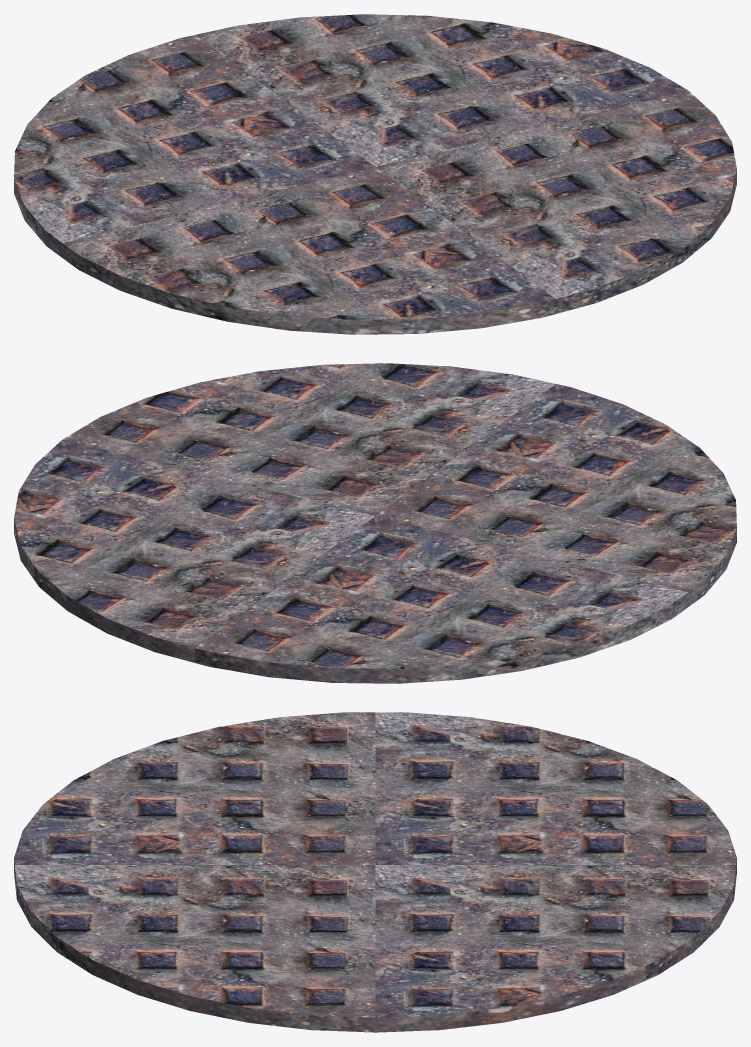
File: manhole.FBX
The picture shows the model from 3 angles, top to bottom: view 1: azimuth 30°, elevation 25°; view 2: azimuth 150°, elevation 25°; view 3: azimuth 270°, elevation 25°; orthographic projection.
Visible parts, largest first — view 1: Cylinder001; view 2: Cylinder001; view 3: Cylinder001.
Boxes of the visible parts, left/top/right/bottom form: Cylinder001: left=14, top=14, right=736, bottom=334; Cylinder001: left=14, top=363, right=736, bottom=683; Cylinder001: left=14, top=712, right=736, bottom=1032.
Size of the model in its own units: 28.1 by 0.6418 by 28.13.
1 material, 1 textured.
